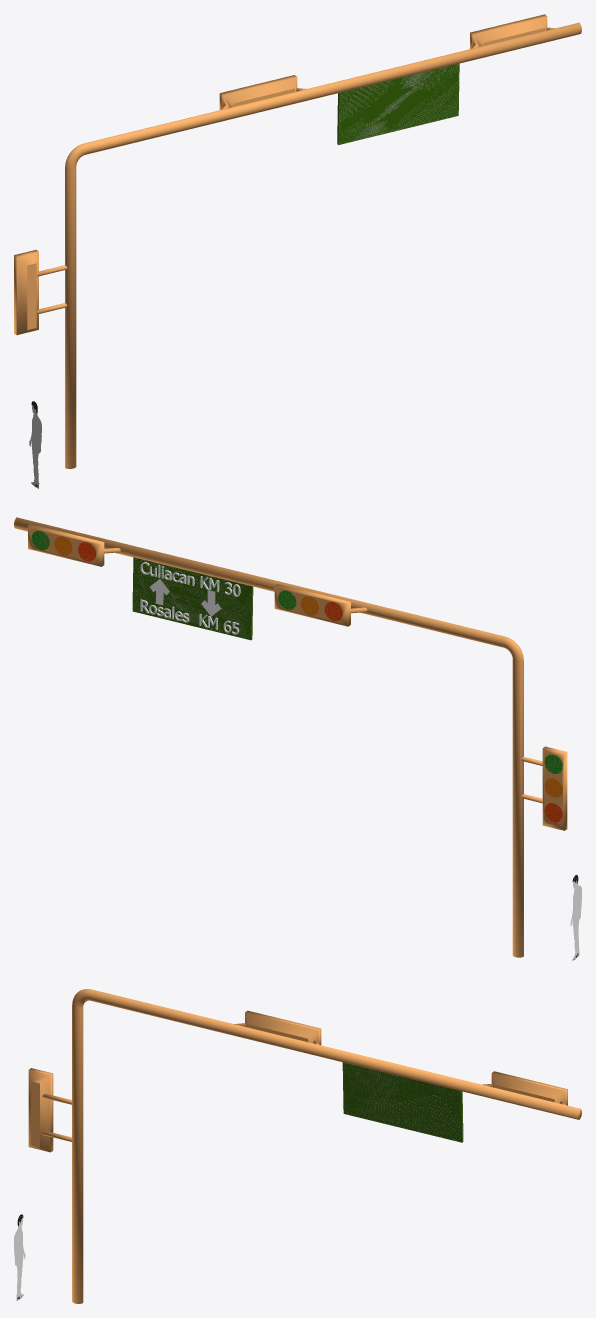
The model's file is semaforo.dae.
3 views of the same model, one above another, from view 1: azimuth 30°, elevation 25°; view 2: azimuth 150°, elevation 25°; view 3: azimuth 330°, elevation 25° (orthographic).
Visible parts, largest first — view 1: SketchUp (×5); view 2: SketchUp (×5); view 3: SketchUp (×5).
Part boxes in pixels (x1,y1,x2,y2): SketchUp (×5): (14,14,581,468); SketchUp (×5): (14,517,567,957); SketchUp (×5): (28,989,581,1303).
Bounding box in the file's own units: 479 × 43.66 × 266.
